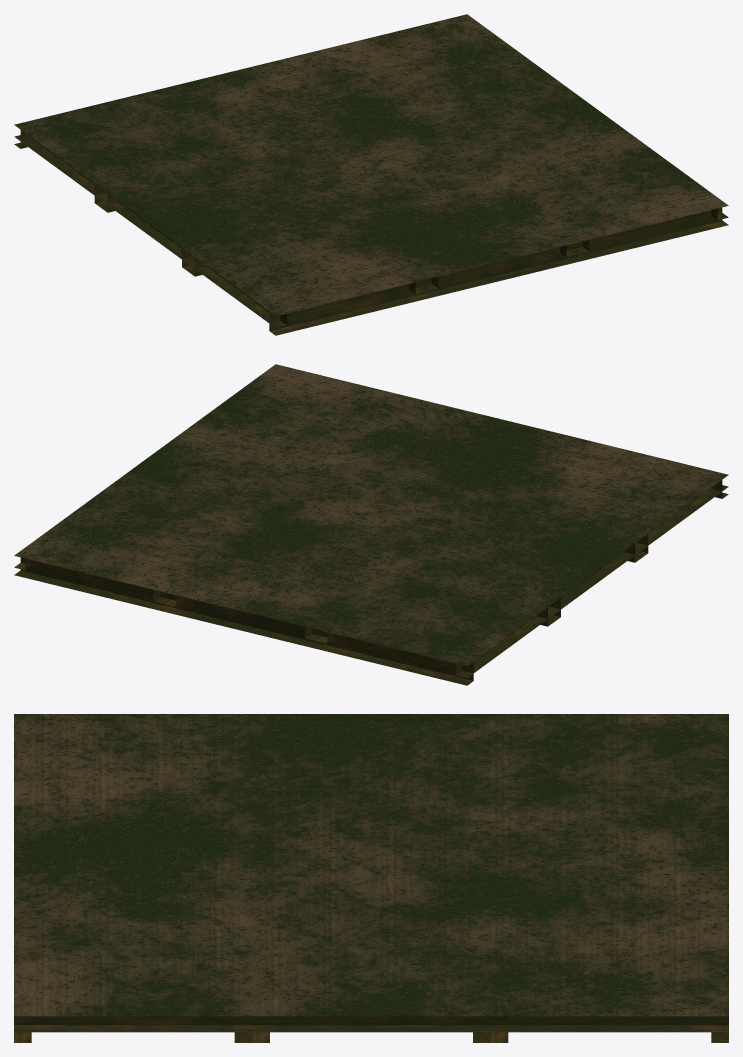
File: shrine_ceiling_mesh.fbx
3 renders of one model, top to bottom at view 1: azimuth 30°, elevation 25°; view 2: azimuth 150°, elevation 25°; view 3: azimuth 270°, elevation 25°, orthographic. The views are drawn at different scales.
Visible parts, largest first — view 1: shrine_ceiling_mesh; view 2: shrine_ceiling_mesh; view 3: shrine_ceiling_mesh.
Part boxes in pixels (left/top/right/bottom): shrine_ceiling_mesh: left=14, top=14, right=728, bottom=335; shrine_ceiling_mesh: left=14, top=364, right=728, bottom=685; shrine_ceiling_mesh: left=14, top=714, right=728, bottom=1042.
Bounding box in the file's own units: 330 × 13.5 × 330.
2 materials, 2 textured.
